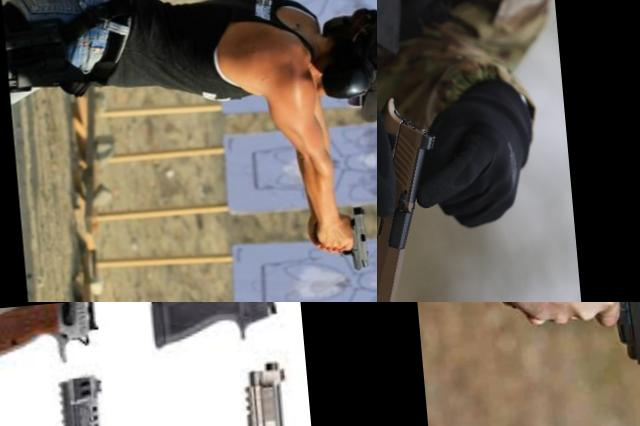handgun: (377, 54, 491, 302), (145, 302, 287, 391), (0, 302, 108, 409), (152, 356, 304, 426), (308, 200, 372, 278), (574, 302, 640, 376)
